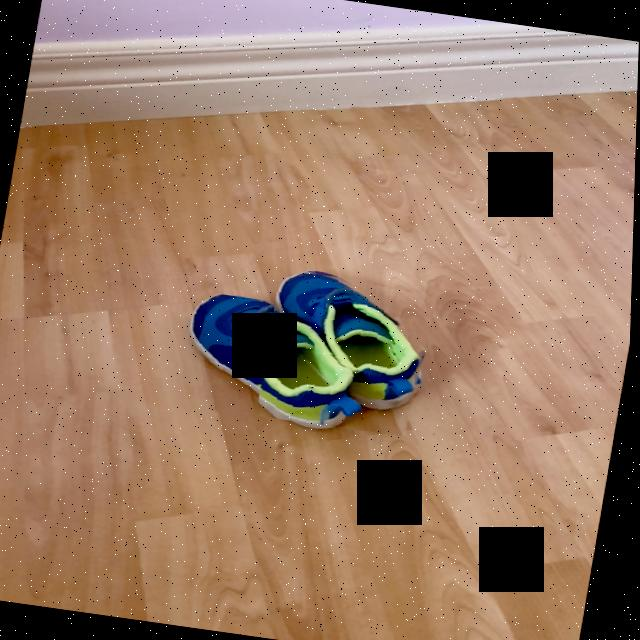shoe: (263, 273, 424, 426), (193, 296, 370, 425)
